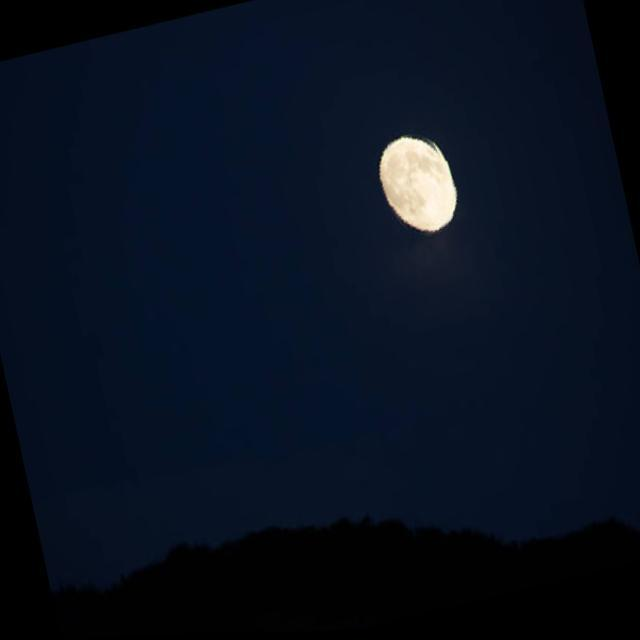moon: (362, 128, 466, 255)
